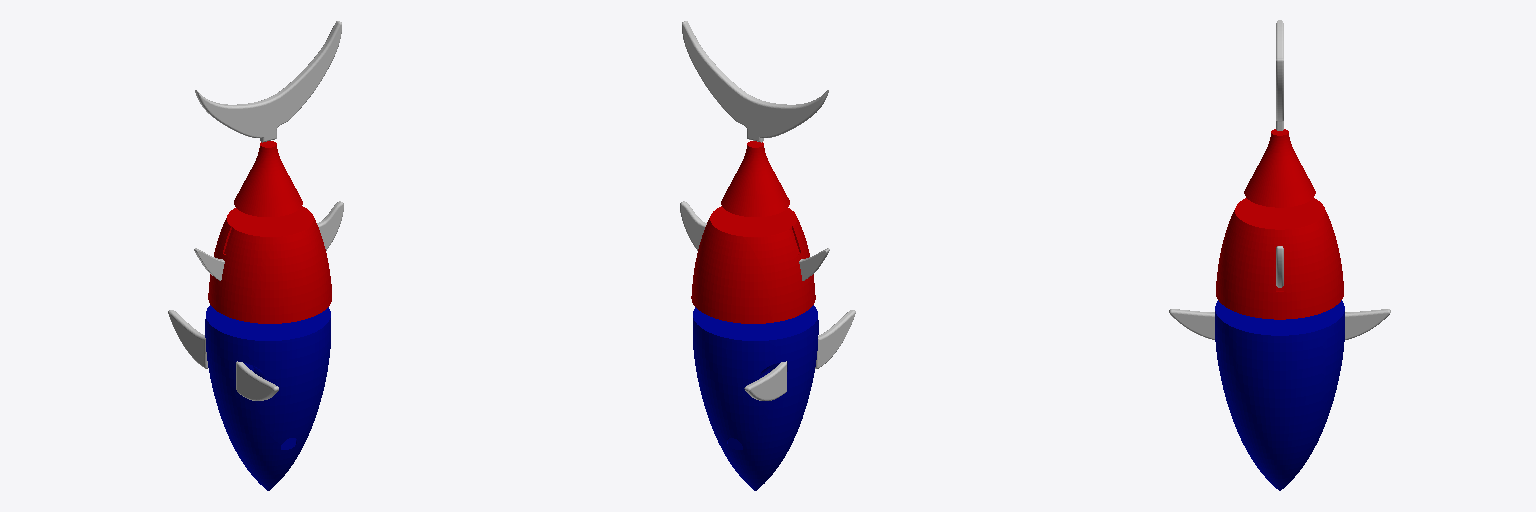
URDF robot description (naro):
<robot name="naro">

    <gazebo>
        <plugin name="gazebo_ros_control" filename="libgazebo_ros_control.so">
        </plugin>
    </gazebo>

	<!-- * * * Link Definitions * * * -->
    <link name="base_link">
 	    <inertial>
            <origin xyz="0 0 0" rpy="0 0 0"/>
            <mass value="0.2" />
            <inertia ixx="0.00563174622435" ixy="0.0" ixz="0.0" iyy="0.00563174622435" iyz="0.0" izz="0.0033147795029"/>
        </inertial>
        <collision>
            <origin rpy="0.0 0 0" xyz="0 0 0"/>
            <geometry>
                <mesh filename="package://naro_description/meshes/NaroBody_1_v3.dae"/>
            </geometry>
        </collision>
        <visual>
            <origin rpy="0.0 0 0" xyz="0 0 0"/>
            <geometry>
                <mesh filename="package://naro_description/meshes/NaroBody_1_v3.dae"/>
            </geometry>
        </visual>
	</link>

    <gazebo reference="base_link">
        <kp>1000000.0</kp>
        <kd>1000000.0</kd>
        <mu1>10.0</mu1>
        <mu2>10.0</mu2>
    </gazebo>

    <link name="NaroBody_2_link">
 	    <inertial>
            <origin xyz="0 0 0" rpy="0 0 0"/>
            <mass value="0.2" />
            <inertia ixx="0.000888376752212" ixy="0.0" ixz="0.0" iyy="0.000888376752212" iyz="0.0" izz="0.0013995055656"/>
        </inertial>
        <collision>
            <origin xyz="0 0 0" rpy="0 0 0"/>
            <geometry>
                <mesh filename="package://naro_description/meshes/NaroBody_2_v2.dae"/>
            </geometry>
        </collision>
        <visual>
            <origin xyz="0 0 0" rpy="0 0 0"/>
            <geometry>
                <mesh filename="package://naro_description/meshes/NaroBody_2_v2.dae"/>
            </geometry>
        </visual>
	</link>
    <!-- This is for color and physical properties in Gazebo, color won't work with the material tag in gazebo
    only for URDF coloring -->
    <gazebo reference="NaroBody_2_link">
        <kp>1000000.0</kp>
        <kd>1000000.0</kd>
        <mu1>10.0</mu1>
        <mu2>10.0</mu2>
    </gazebo>

    <joint name="NaroBody_1_NaroBody_2_joint" type="revolute">
    	<parent link="base_link"/>
    	<child link="NaroBody_2_link"/>
        <origin xyz="0 0 0.015" rpy="0 0 0"/>
        <limit lower="-0.2" upper="0.2" effort="10.0" velocity="1.0"/>
        <axis xyz="1 0 0"/>
	</joint>
	
    <transmission name="tran1">
        <type>transmission_interface/SimpleTransmission</type>
        <joint name="NaroBody_1_NaroBody_2_joint">
            <hardwareInterface>EffortJointInterface</hardwareInterface>
        </joint>
        <actuator name="motor1">
            <hardwareInterface>EffortJointInterface</hardwareInterface>
            <mechanicalReduction>1</mechanicalReduction>
        </actuator>
    </transmission>

    <link name="NaroBody_3_link">
 	    <inertial>
            <origin xyz="0 0 0" rpy="0 0 0"/>
            <mass value="0.2" />
            <inertia ixx="8.87413829167e-05" ixy="0.0" ixz="0.0" iyy="8.87413829167e-05" iyz="0.0" izz="8.18246025e-05"/>
        </inertial>
        <collision>
            <origin xyz="0 0 0" rpy="0 0 0"/>
            <geometry>
                <mesh filename="package://naro_description/meshes/NaroBody_3.dae"/>
            </geometry>
        </collision>
        <visual>
            <origin xyz="0 0 0" rpy="0 0 0"/>
            <geometry>
                <mesh filename="package://naro_description/meshes/NaroBody_3.dae"/>
            </geometry>
        </visual>
	</link>
    <!-- This is for color and physical properties in Gazebo, color won't work with the material tag in gazebo
    only for URDF coloring -->
    <gazebo reference="NaroBody_3_link">
        <kp>1000000.0</kp>
        <kd>1000000.0</kd>
        <mu1>10.0</mu1>
        <mu2>10.0</mu2>
    </gazebo>

    <joint name="NaroBody_2_NaroBody_3_joint" type="revolute">
    	<parent link="NaroBody_2_link"/>
    	<child link="NaroBody_3_link"/>
        <origin xyz="0 0 0.0874" rpy="0 0 0"/>
        <limit lower="-0.2" upper="0.2" effort="5.0" velocity="1.0"/>
        <axis xyz="1 0 0"/>
	</joint>
	
    <transmission name="tran2">
        <type>transmission_interface/SimpleTransmission</type>
        <joint name="NaroBody_2_NaroBody_3_joint">
            <hardwareInterface>EffortJointInterface</hardwareInterface>
        </joint>
        <actuator name="motor2">
            <hardwareInterface>EffortJointInterface</hardwareInterface>
            <mechanicalReduction>1</mechanicalReduction>
        </actuator>
    </transmission>
    
    
    <link name="Naro_caudal_fin_link">
 	    <inertial>
            <origin xyz="0 0 0" rpy="0 0 0"/>
            <mass value="0.2" />
            <inertia ixx="0.000220439071667" ixy="0.0" ixz="0.0" iyy="0.000220439071667" iyz="0.0" izz="0.00026615281"/>
        </inertial>
        <collision>
            <origin xyz="0 0 0" rpy="0 0 0"/>
            <geometry>
                <mesh filename="package://naro_description/meshes/Naro_caudal_fin_v2.dae"/>
            </geometry>
        </collision>
        <visual>
            <origin xyz="0 0 0" rpy="0 0 0"/>
            <geometry>
                <mesh filename="package://naro_description/meshes/Naro_caudal_fin_v2.dae"/>
            </geometry>
        </visual>
	</link>
    <!-- This is for color and physical properties in Gazebo, color won't work with the material tag in gazebo
    only for URDF coloring -->
    <gazebo reference="Naro_caudal_fin_link">
        <kp>1000000.0</kp>
        <kd>1000000.0</kd>
        <mu1>10.0</mu1>
        <mu2>10.0</mu2>
    </gazebo>

    <joint name="NaroBody_3_Naro_caudal_fin_joint" type="revolute">
    	<parent link="NaroBody_3_link"/>
    	<child link="Naro_caudal_fin_link"/>
        <origin xyz="0 0 0.05757" rpy="0 0 0"/>
        <limit lower="-0.2" upper="0.2" effort="5.0" velocity="1.0"/>
        <axis xyz="1 0 0"/>
	</joint>
	
    <transmission name="tran3">
        <type>transmission_interface/SimpleTransmission</type>
        <joint name="NaroBody_3_Naro_caudal_fin_joint">
            <hardwareInterface>EffortJointInterface</hardwareInterface>
        </joint>
        <actuator name="motor3">
            <hardwareInterface>EffortJointInterface</hardwareInterface>
            <mechanicalReduction>1</mechanicalReduction>
        </actuator>
    </transmission>
    
    
    <link name="Naro_pectoral_fin_right_link">
 	    <inertial>
            <origin xyz="0 0 0" rpy="0 0 0"/>
            <mass value="0.1" />
            <inertia ixx="3.15811533333e-05" ixy="0.0" ixz="0.0" iyy="3.00804033333e-05" iyz="0.0" izz="2.10075e-06"/>
        </inertial>
        <collision>
            <origin xyz="0 0 0" rpy="0 0 0"/>
            <geometry>
                <mesh filename="package://naro_description/meshes/Naro_pectoral_fin_v2.dae"/>
            </geometry>
        </collision>
        <visual>
            <origin xyz="0 0 0" rpy="0 0 0"/>
            <geometry>
                <mesh filename="package://naro_description/meshes/Naro_pectoral_fin_v2.dae"/>
            </geometry>
        </visual>
	</link>
    <!-- This is for color and physical properties in Gazebo, color won't work with the material tag in gazebo
    only for URDF coloring -->
    <gazebo reference="Naro_pectoral_fin_right_link">
        <kp>1000000.0</kp>
        <kd>1000000.0</kd>
        <mu1>10.0</mu1>
        <mu2>10.0</mu2>
        <material>Gazebo/Purple</material>
    </gazebo>

    <joint name="NaroBody_1_Naro_pectoral_fin_right_joint" type="revolute">
    	<parent link="base_link"/>
    	<child link="Naro_pectoral_fin_right_link"/>
        <origin xyz="-0.04275 -0.025 -0.03622" rpy="1.5707963267948966 0 0"/>
        <limit lower="-0.2" upper="0.2" effort="0.1" velocity="0.5"/>
        <axis xyz="0 0 1"/>
	</joint>
	
    <transmission name="tran4">
        <type>transmission_interface/SimpleTransmission</type>
        <joint name="NaroBody_1_Naro_pectoral_fin_right_joint">
            <hardwareInterface>EffortJointInterface</hardwareInterface>
        </joint>
        <actuator name="motor4">
            <hardwareInterface>EffortJointInterface</hardwareInterface>
            <mechanicalReduction>1</mechanicalReduction>
        </actuator>
    </transmission>
    
    
    <link name="Naro_pectoral_fin_left_link">
 	    <inertial>
            <origin xyz="0 0 0" rpy="0 0 0"/>
            <mass value="0.05" />
            <inertia ixx="3.15811533333e-05" ixy="0.0" ixz="0.0" iyy="3.00804033333e-05" iyz="0.0" izz="2.10075e-06"/>
        </inertial>
        <collision>
            <origin xyz="0 0 0" rpy="0 0 0"/>
            <geometry>
                <mesh filename="package://naro_description/meshes/Naro_pectoral_fin_sim_v2.dae"/>
            </geometry>
        </collision>
        <visual>
            <origin xyz="0 0 0" rpy="0 0 0"/>
            <geometry>
                <mesh filename="package://naro_description/meshes/Naro_pectoral_fin_sim_v2.dae"/>
            </geometry>
        </visual>
	</link>
    <!-- This is for color and physical properties in Gazebo, color won't work with the material tag in gazebo
    only for URDF coloring -->
    <gazebo reference="Naro_pectoral_fin_left_link">
        <kp>1000000.0</kp>
        <kd>1000000.0</kd>
        <mu1>10.0</mu1>
        <mu2>10.0</mu2>
    </gazebo>

    <joint name="NaroBody_1_Naro_pectoral_fin_left_joint" type="revolute">
    	<parent link="base_link"/>
    	<child link="Naro_pectoral_fin_left_link"/>
        <origin xyz="-0.04275 0.025 -0.03622" rpy="-1.5707963267948966 0 0"/>
        <limit lower="-0.2" upper="0.2" effort="0.1" velocity="0.5"/>
        <axis xyz="0 0 1"/>
	</joint>
	
    <transmission name="tran5">
        <type>transmission_interface/SimpleTransmission</type>
        <joint name="NaroBody_1_Naro_pectoral_fin_left_joint">
            <hardwareInterface>EffortJointInterface</hardwareInterface>
        </joint>
        <actuator name="motor5">
            <hardwareInterface>EffortJointInterface</hardwareInterface>
            <mechanicalReduction>1</mechanicalReduction>
        </actuator>
    </transmission>
    
    
    <link name="Naro_dorsal_fin_up_link">
 	    <inertial>
            <origin xyz="0 0 0" rpy="0 0 0"/>
            <mass value="0.05" />
            <inertia ixx="3.15811533333e-05" ixy="0.0" ixz="0.0" iyy="3.00804033333e-05" iyz="0.0" izz="2.10075e-06"/>
        </inertial>
        <collision>
            <origin xyz="0 0 0" rpy="0 0 0"/>
            <geometry>
                <mesh filename="package://naro_description/meshes/Naro_dorsal_fin_up.dae"/>
            </geometry>
        </collision>
        <visual>
            <origin xyz="0 0 0" rpy="0 0 0"/>
            <geometry>
                <mesh filename="package://naro_description/meshes/Naro_dorsal_fin_up.dae"/>
            </geometry>
        </visual>
	</link>
	
	<gazebo reference="Naro_dorsal_fin_up_link">
        <kp>1000000.0</kp>
        <kd>1000000.0</kd>
        <mu1>10.0</mu1>
        <mu2>10.0</mu2>
    </gazebo>
    
    <joint name="NaroBody_1_Naro_dorsal_fin_up_joint" type="fixed">
        <parent link="NaroBody_2_link"/>
        <child link="Naro_dorsal_fin_up_link"/>
        <origin xyz="0.04088 0 0.04053" rpy="0 1.3 0"/>
    </joint>
    
    
        <link name="Naro_dorsal_fin_down_link">
 	    <inertial>
            <origin xyz="0 0 0" rpy="0 0 0"/>
            <mass value="0.05" />
            <inertia ixx="3.15811533333e-05" ixy="0.0" ixz="0.0" iyy="3.00804033333e-05" iyz="0.0" izz="2.10075e-06"/>
        </inertial>
        <collision>
            <origin xyz="0 0 0" rpy="0 0 0"/>
            <geometry>
                <mesh filename="package://naro_description/meshes/Naro_dorsal_fin_down_v2.dae"/>
            </geometry>
        </collision>
        <visual>
            <origin xyz="0 0 0" rpy="0 0 0"/>
            <geometry>
                <mesh filename="package://naro_description/meshes/Naro_dorsal_fin_down_v2.dae"/>
            </geometry>
            <material name="purple"/>
        </visual>
	</link>
	
	<gazebo reference="Naro_dorsal_fin_down_link">
        <kp>1000000.0</kp>
        <kd>1000000.0</kd>
        <mu1>10.0</mu1>
        <mu2>10.0</mu2>
    </gazebo>
    
    <joint name="NaroBody_1_Naro_dorsal_fin_down_joint" type="fixed">
        <parent link="NaroBody_2_link"/>
        <child link="Naro_dorsal_fin_down_link"/>
        <origin xyz="-0.04088 0 0.0362" rpy="0 -1.5707963267948966 0"/>
    </joint>



</robot>

--- Facts derived from the render (not from the file) ---
Views: 3 orthographic renders of the robot side by side, from view 1: azimuth 30°, elevation 25°; view 2: azimuth 150°, elevation 25°; view 3: azimuth 270°, elevation 25°.
Robot: naro — 8 links, 7 joints (5 revolute, 2 fixed); root link base_link; default pose: every joint at zero.
Visible links, largest first — view 1: base_link, NaroBody_2_link, Naro_caudal_fin_link, NaroBody_3_link, Naro_pectoral_fin_right_link, Naro_pectoral_fin_left_link, Naro_dorsal_fin_up_link; view 2: base_link, NaroBody_2_link, Naro_caudal_fin_link, NaroBody_3_link, Naro_pectoral_fin_left_link, Naro_pectoral_fin_right_link, Naro_dorsal_fin_up_link; view 3: base_link, NaroBody_2_link, NaroBody_3_link, Naro_pectoral_fin_left_link, Naro_pectoral_fin_right_link, Naro_caudal_fin_link.
Boxes of the visible links, x1,y1,x2,y2 form: base_link: [205, 305, 330, 490]; NaroBody_2_link: [208, 206, 331, 323]; Naro_caudal_fin_link: [195, 21, 341, 142]; NaroBody_3_link: [234, 141, 302, 216]; Naro_pectoral_fin_right_link: [236, 361, 278, 400]; Naro_pectoral_fin_left_link: [168, 310, 207, 368]; Naro_dorsal_fin_up_link: [317, 201, 343, 250]; base_link: [693, 305, 818, 490]; NaroBody_2_link: [691, 206, 815, 323]; Naro_caudal_fin_link: [682, 21, 828, 142]; NaroBody_3_link: [721, 141, 789, 216]; Naro_pectoral_fin_left_link: [744, 361, 786, 400]; Naro_pectoral_fin_right_link: [815, 310, 855, 368]; Naro_dorsal_fin_up_link: [680, 201, 706, 250]; base_link: [1215, 300, 1344, 490]; NaroBody_2_link: [1216, 198, 1343, 319]; NaroBody_3_link: [1244, 129, 1315, 207]; Naro_pectoral_fin_left_link: [1345, 309, 1390, 339]; Naro_pectoral_fin_right_link: [1169, 309, 1214, 339]; Naro_caudal_fin_link: [1276, 20, 1283, 130].
Bounding box of the posed robot: 0.1412 × 0.1775 × 0.4148 m (x, y, z).
8 mesh visuals loaded from 8 distinct referenced files (8 Collada DAE).
